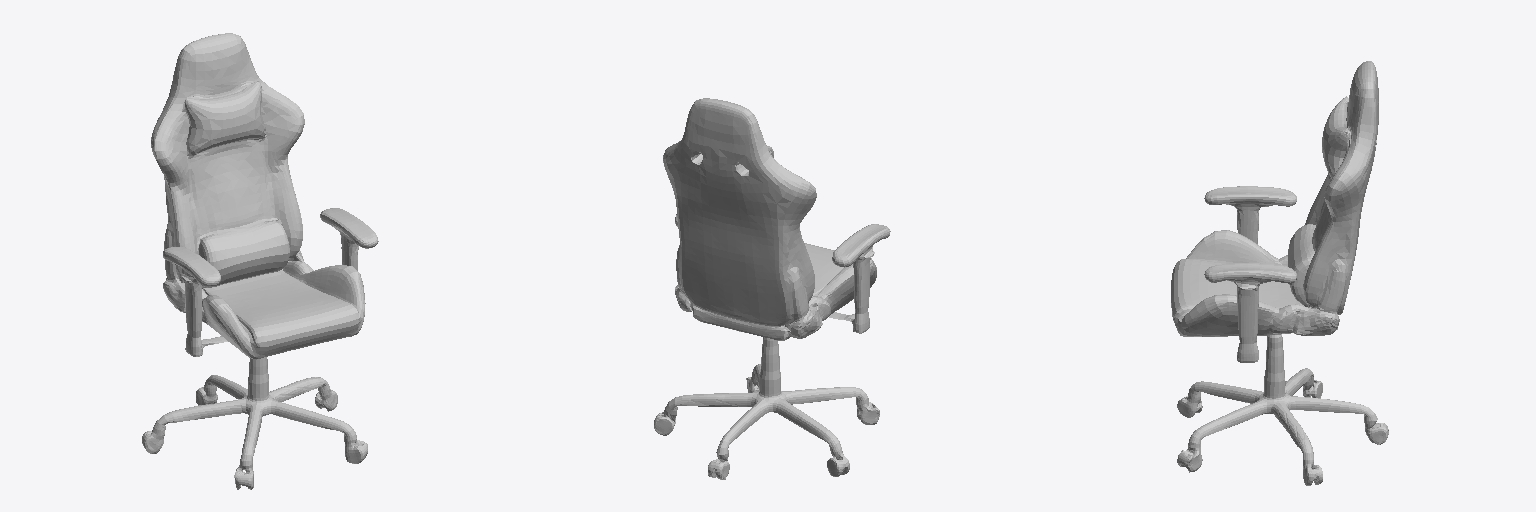
The model's file is red_and_black_gaming_chair.obj.
3 renders of one model, left to right at view 1: azimuth 30°, elevation 25°; view 2: azimuth 150°, elevation 25°; view 3: azimuth 270°, elevation 25°, orthographic.
Visible parts, largest first — view 1: obj1; view 2: obj1; view 3: obj1.
Boxes of the visible parts, box(x1,y1,x2,y2) form: obj1: box(142, 33, 378, 489); obj1: box(654, 98, 890, 479); obj1: box(1171, 61, 1388, 485).
Size of the model in its own units: 1.08 by 2 by 1.06.